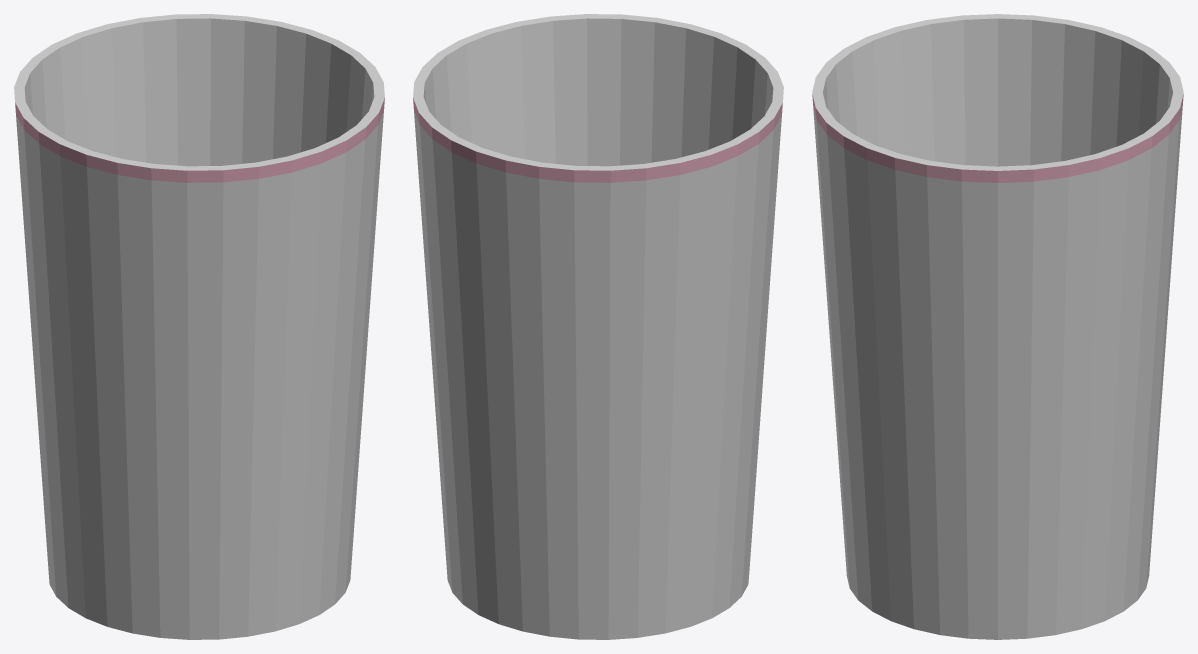
Rendered from Cup.fbx.
3 views of the same model, side by side, from view 1: azimuth 30°, elevation 25°; view 2: azimuth 150°, elevation 25°; view 3: azimuth 270°, elevation 25° (orthographic).
Parts seen in each view (by area): view 1: Cylinder; view 2: Cylinder; view 3: Cylinder.
Part boxes in pixels (left/top/right/bottom): Cylinder: left=14, top=14, right=384, bottom=639; Cylinder: left=413, top=14, right=783, bottom=639; Cylinder: left=812, top=14, right=1183, bottom=639.
Size of the model in its own units: 151 by 217 by 151.
